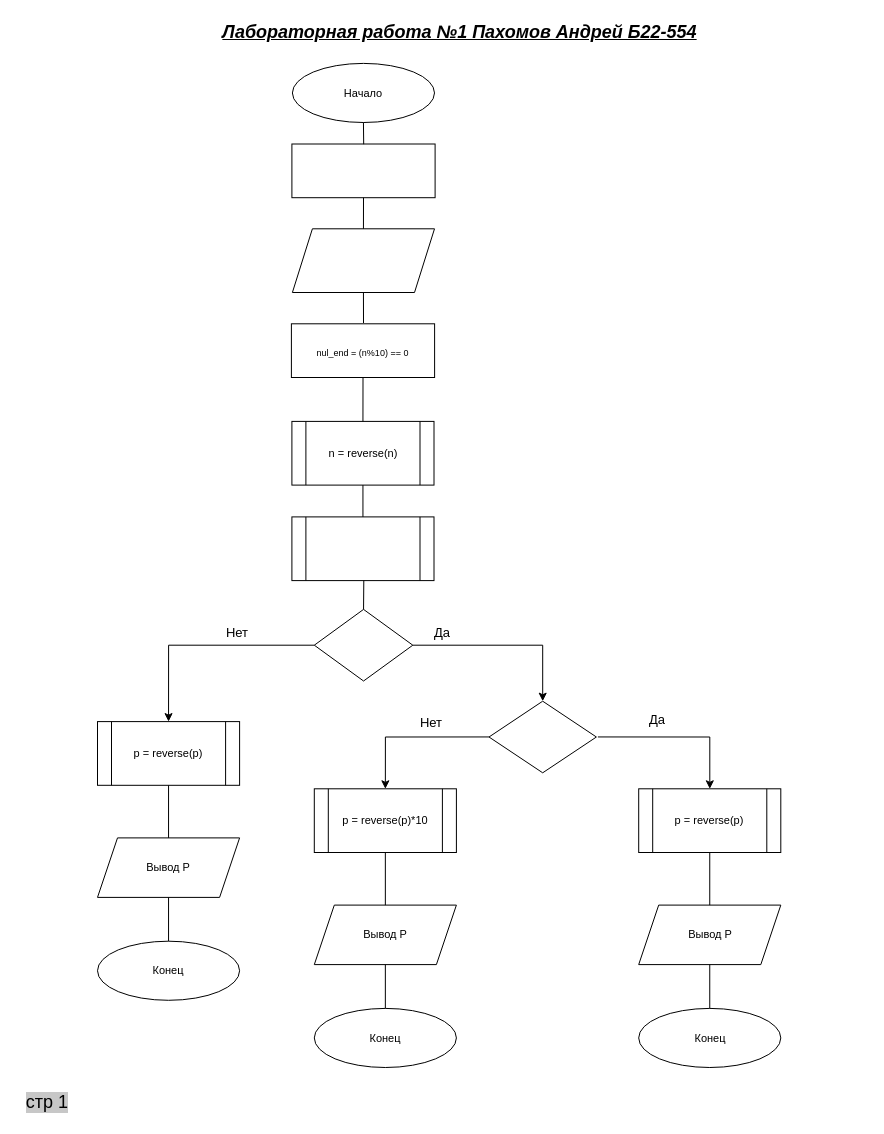
This 884x1134 diagram has some shape labels left out. The shapes that lost their labels are listed below. From the top down, each one's centre as x and y in pixels, then its label:
At (363,170): "p = 0 nul_end = 0 n = 0".
At (362,260): "Ввод n".
At (362,548): "p = gen(n)".
At (363,644): "nul_end == 1".
At (542,736): "check(0, p) == 1".
